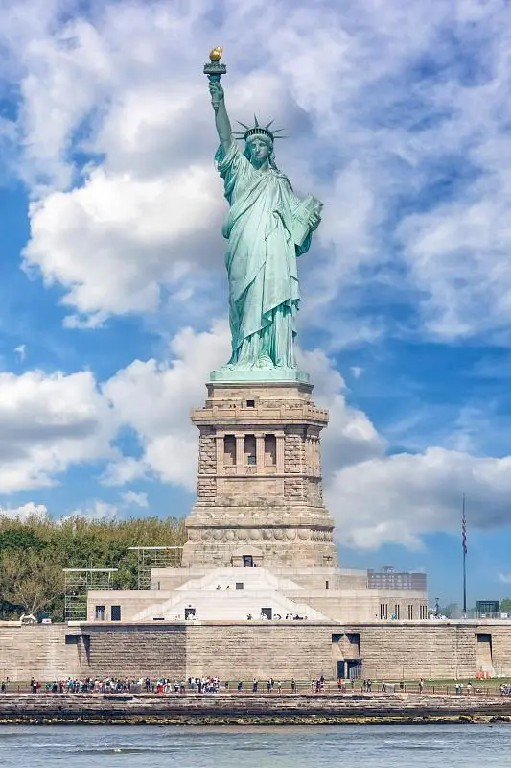SL: (181, 46, 338, 567)
